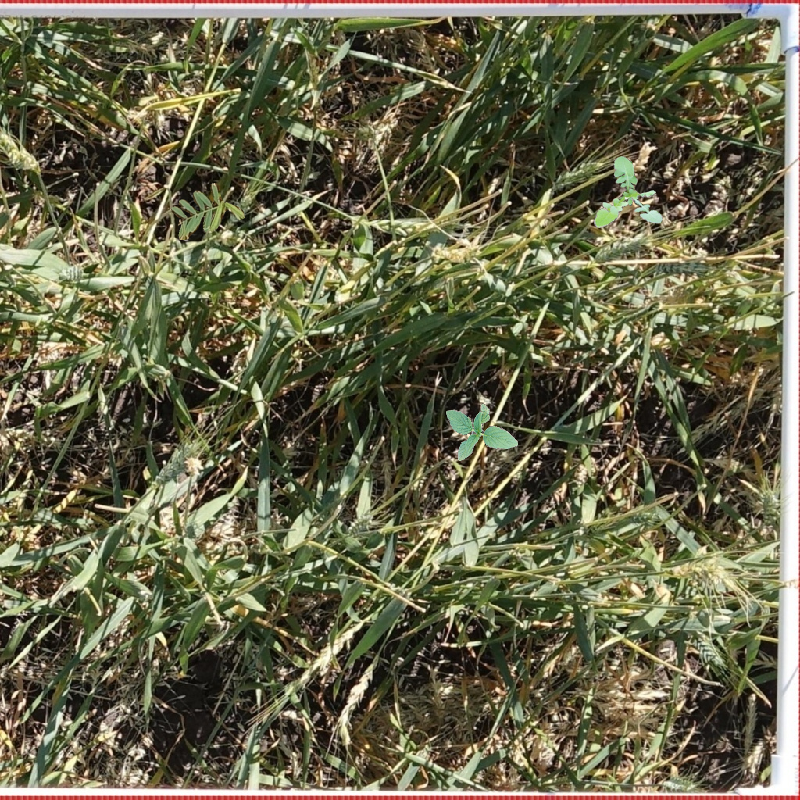spikelet: (152, 437, 204, 485), (676, 554, 738, 594), (547, 157, 608, 193), (1, 127, 40, 172), (595, 232, 648, 260), (692, 632, 727, 669), (756, 485, 780, 525)
weed: (428, 389, 528, 483), (594, 156, 663, 228), (171, 183, 245, 240)
